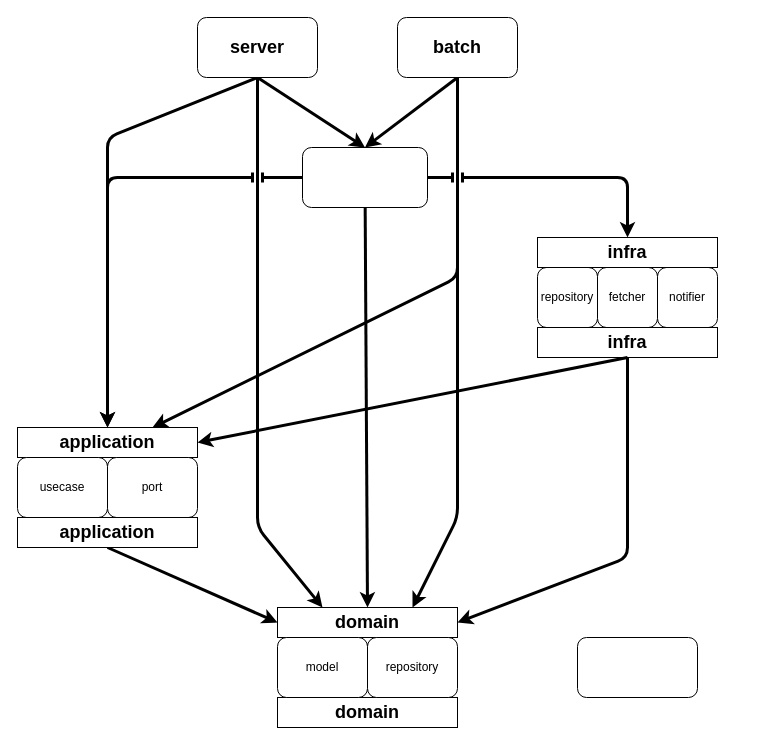
Some shapes in this 765 by 755 pixel diagram are drawn without their labels. Here are the shapes that lost their labels. From the top down, the centre of each, then its label:
point 365,177: registry
point 637,667: shared
